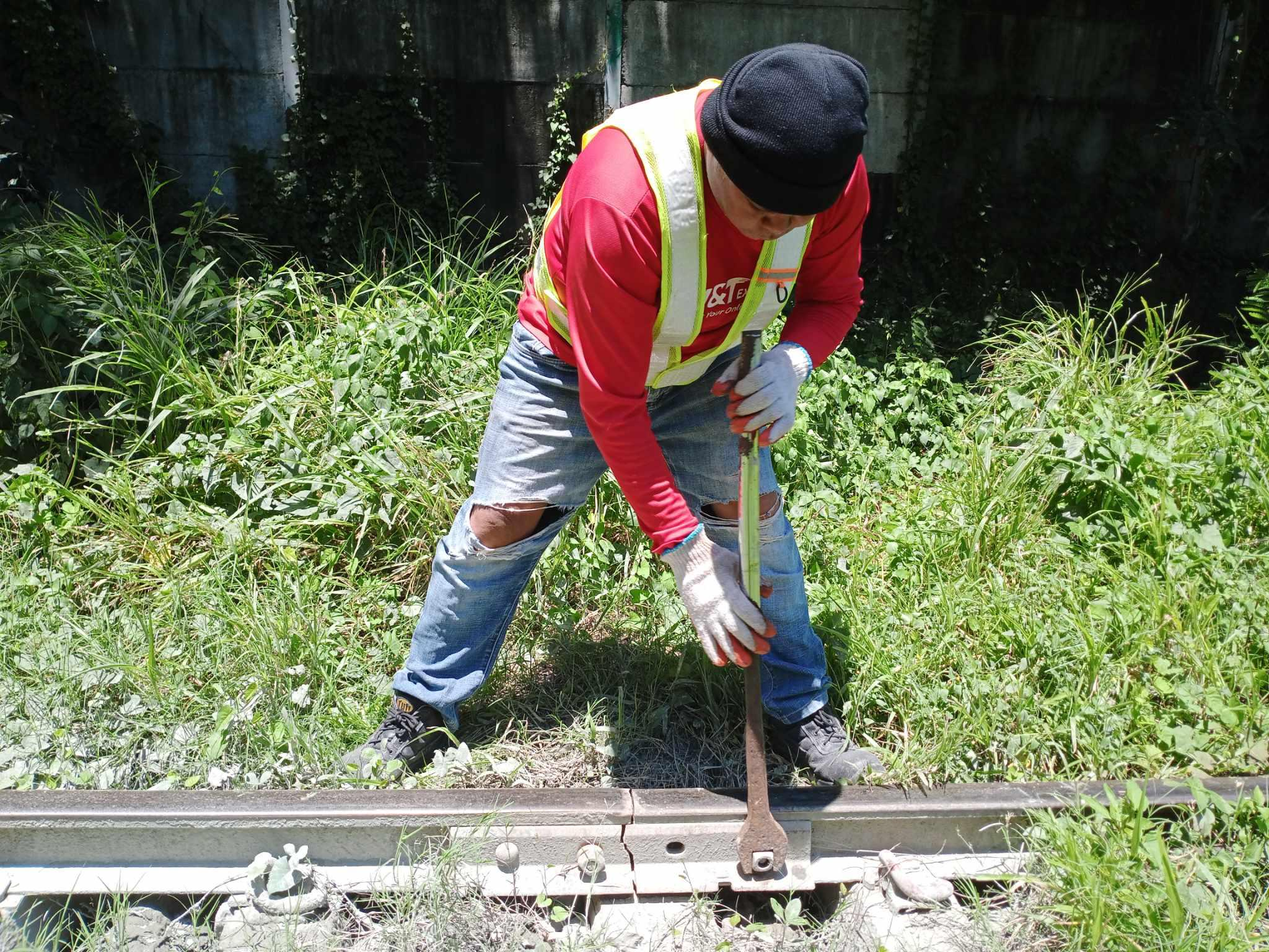railway-gap: (602, 824, 666, 906), (603, 779, 662, 827)
